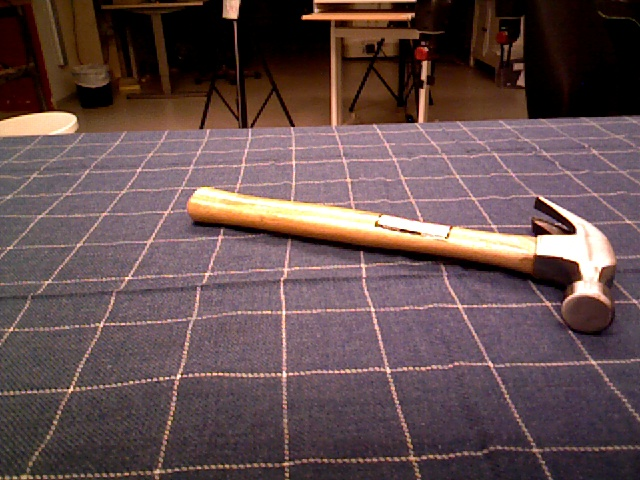hammer1: (183, 183, 618, 336)
